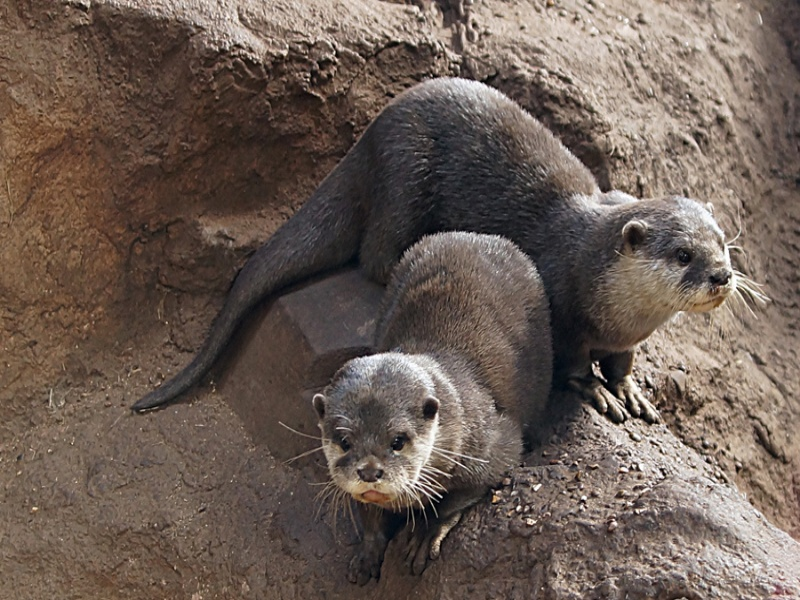minkish: (113, 76, 761, 428), (313, 230, 555, 590)
